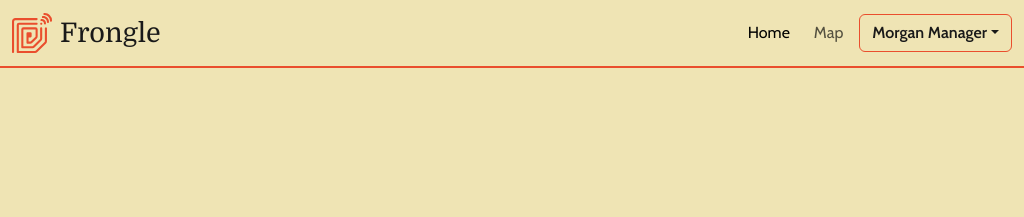
Test: closes the account dropdown after the user picks an option
Click the button "Morgan Manager". click: {"x": 936, "y": 33}
box: [859,14,1012,52]
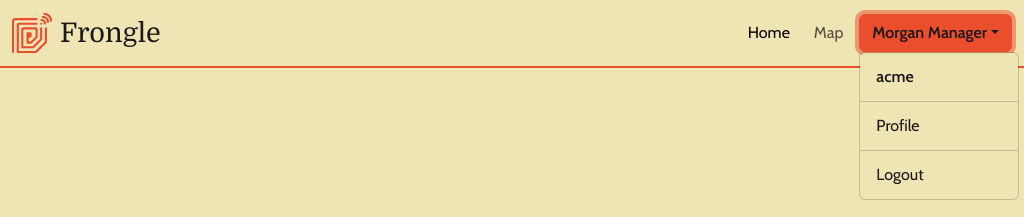
Click the link "Profile". click: {"x": 898, "y": 126}
box: [876,116,920,135]
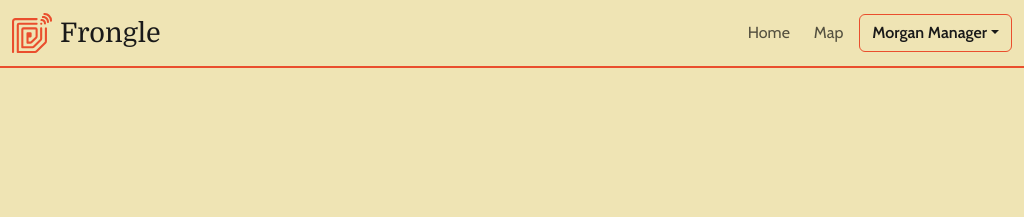
Check: the button "Morgan Manager" is collapsed, box [859,14,1012,52]
